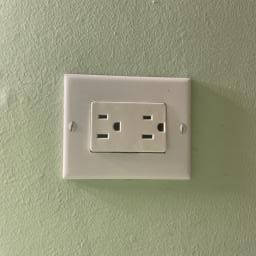outlet: (60, 73, 195, 184)
